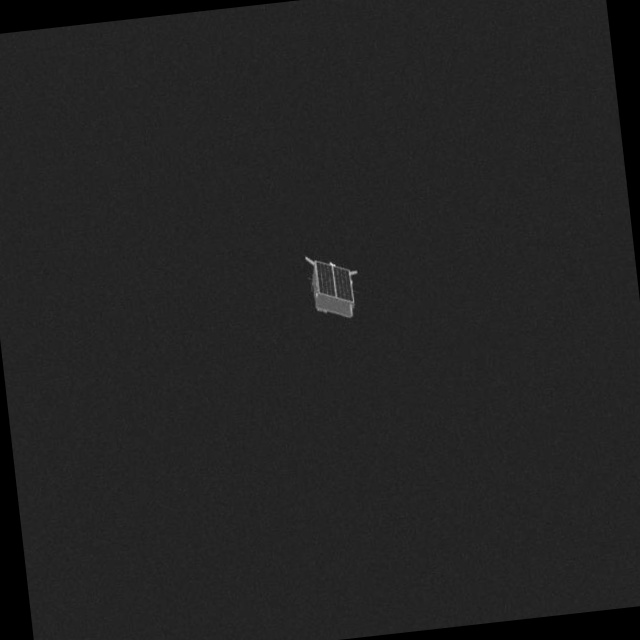satellite: (308, 245, 370, 326)
